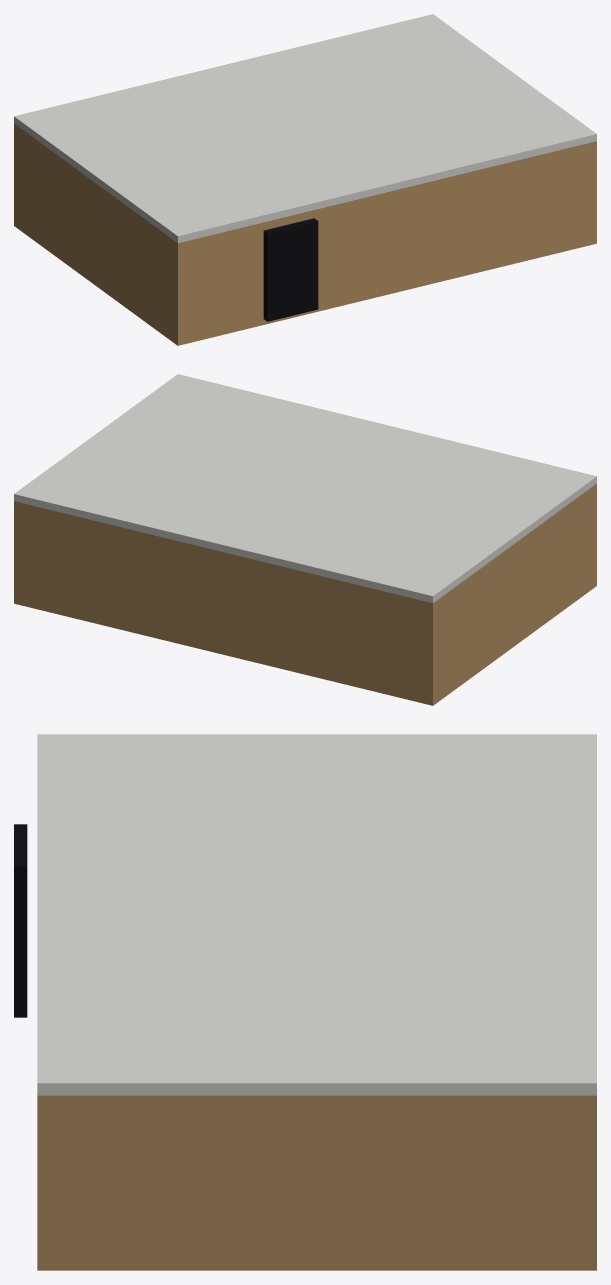
Rendered from rdwe_attic.glb.
3 renders of one model, top to bottom at view 1: azimuth 30°, elevation 25°; view 2: azimuth 150°, elevation 25°; view 3: azimuth 270°, elevation 25°, orthographic. The views are drawn at different scales.
Visible parts, largest first — view 1: Room_Ceiling, Room_Wall_S_3, Room_Wall_W_1, Room_Wall_S_1, Room_Floor, Beyond_party; view 2: Room_Ceiling, Room_Wall_N_1, Room_Wall_W_1, Room_Floor; view 3: Room_Ceiling, Room_Wall_E_1, Room_Floor, Beyond_party, Room_Wall_S_3, Room_Wall_N_1.
Part boxes in pixels (x1,y1,x2,y2): Room_Ceiling: (14, 14, 596, 243); Room_Wall_S_3: (303, 141, 596, 300); Room_Wall_W_1: (18, 126, 173, 331); Room_Wall_S_1: (174, 221, 268, 335); Room_Floor: (14, 215, 596, 345); Beyond_party: (263, 218, 318, 321); Room_Ceiling: (14, 374, 596, 603); Room_Wall_N_1: (14, 501, 436, 695); Room_Wall_W_1: (437, 486, 592, 691); Room_Floor: (14, 575, 596, 705); Room_Ceiling: (37, 734, 596, 1095); Room_Wall_E_1: (50, 1095, 583, 1252); Room_Floor: (37, 1252, 596, 1270); Beyond_party: (14, 824, 27, 1017); Room_Wall_S_3: (37, 1095, 50, 1252); Room_Wall_N_1: (583, 1095, 596, 1252).
Bounding box in the file's own units: 12.4 × 3.1 × 8.75.
